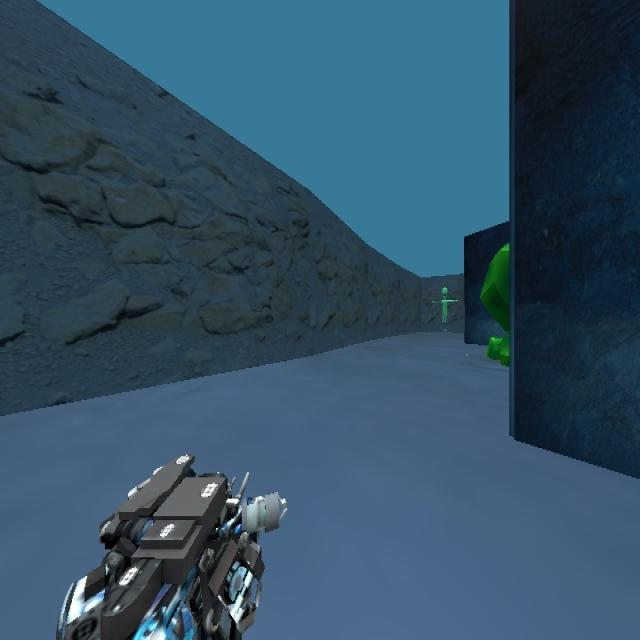Alien: (430, 284, 458, 324)
Diamon: (479, 240, 510, 367)
